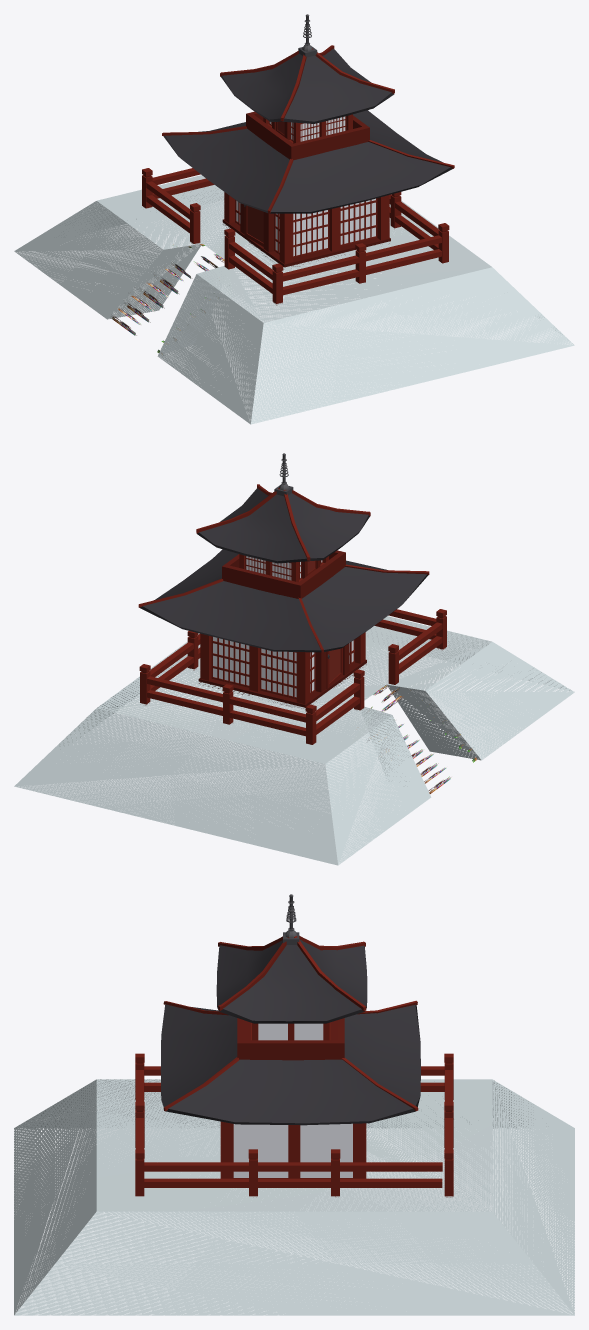
File: houme015.fbx
3 views of the same model, one above another, from view 1: azimuth 30°, elevation 25°; view 2: azimuth 150°, elevation 25°; view 3: azimuth 270°, elevation 25° (orthographic). The views are drawn at different scales.
Parts seen in each view (by area): view 1: foundation_15_1, houme_15, fence_15_1; view 2: foundation_15_1, houme_15, fence_15_1; view 3: foundation_15_1, houme_15, fence_15_1.
Part boxes in pixels (box(x1,y1,x2,y2)): foundation_15_1: box(14, 175, 574, 424); houme_15: box(162, 45, 454, 267); fence_15_1: box(142, 168, 449, 305); foundation_15_1: box(14, 616, 574, 865); houme_15: box(138, 484, 429, 709); fence_15_1: box(139, 609, 446, 744); foundation_15_1: box(14, 1079, 574, 1315); houme_15: box(160, 935, 420, 1178); fence_15_1: box(135, 1053, 453, 1197).
Size of the model in its own units: 1870 by 1555 by 2365.
